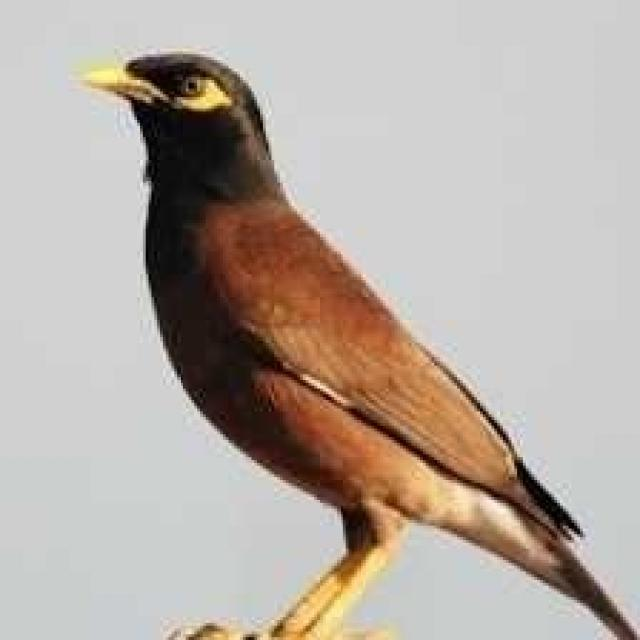bird: (76, 40, 640, 640)
